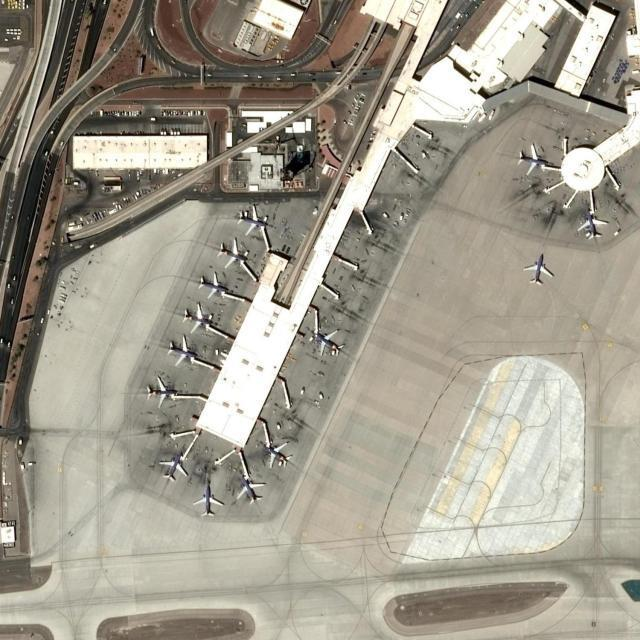Aircraft: (524, 252, 557, 286), (578, 207, 611, 240), (191, 485, 225, 517), (147, 376, 179, 408), (519, 143, 549, 177), (183, 301, 215, 332), (237, 205, 270, 235), (315, 325, 346, 356), (167, 334, 197, 366), (264, 439, 295, 469), (220, 237, 250, 268), (159, 451, 189, 481), (237, 474, 266, 504), (199, 272, 231, 298)
